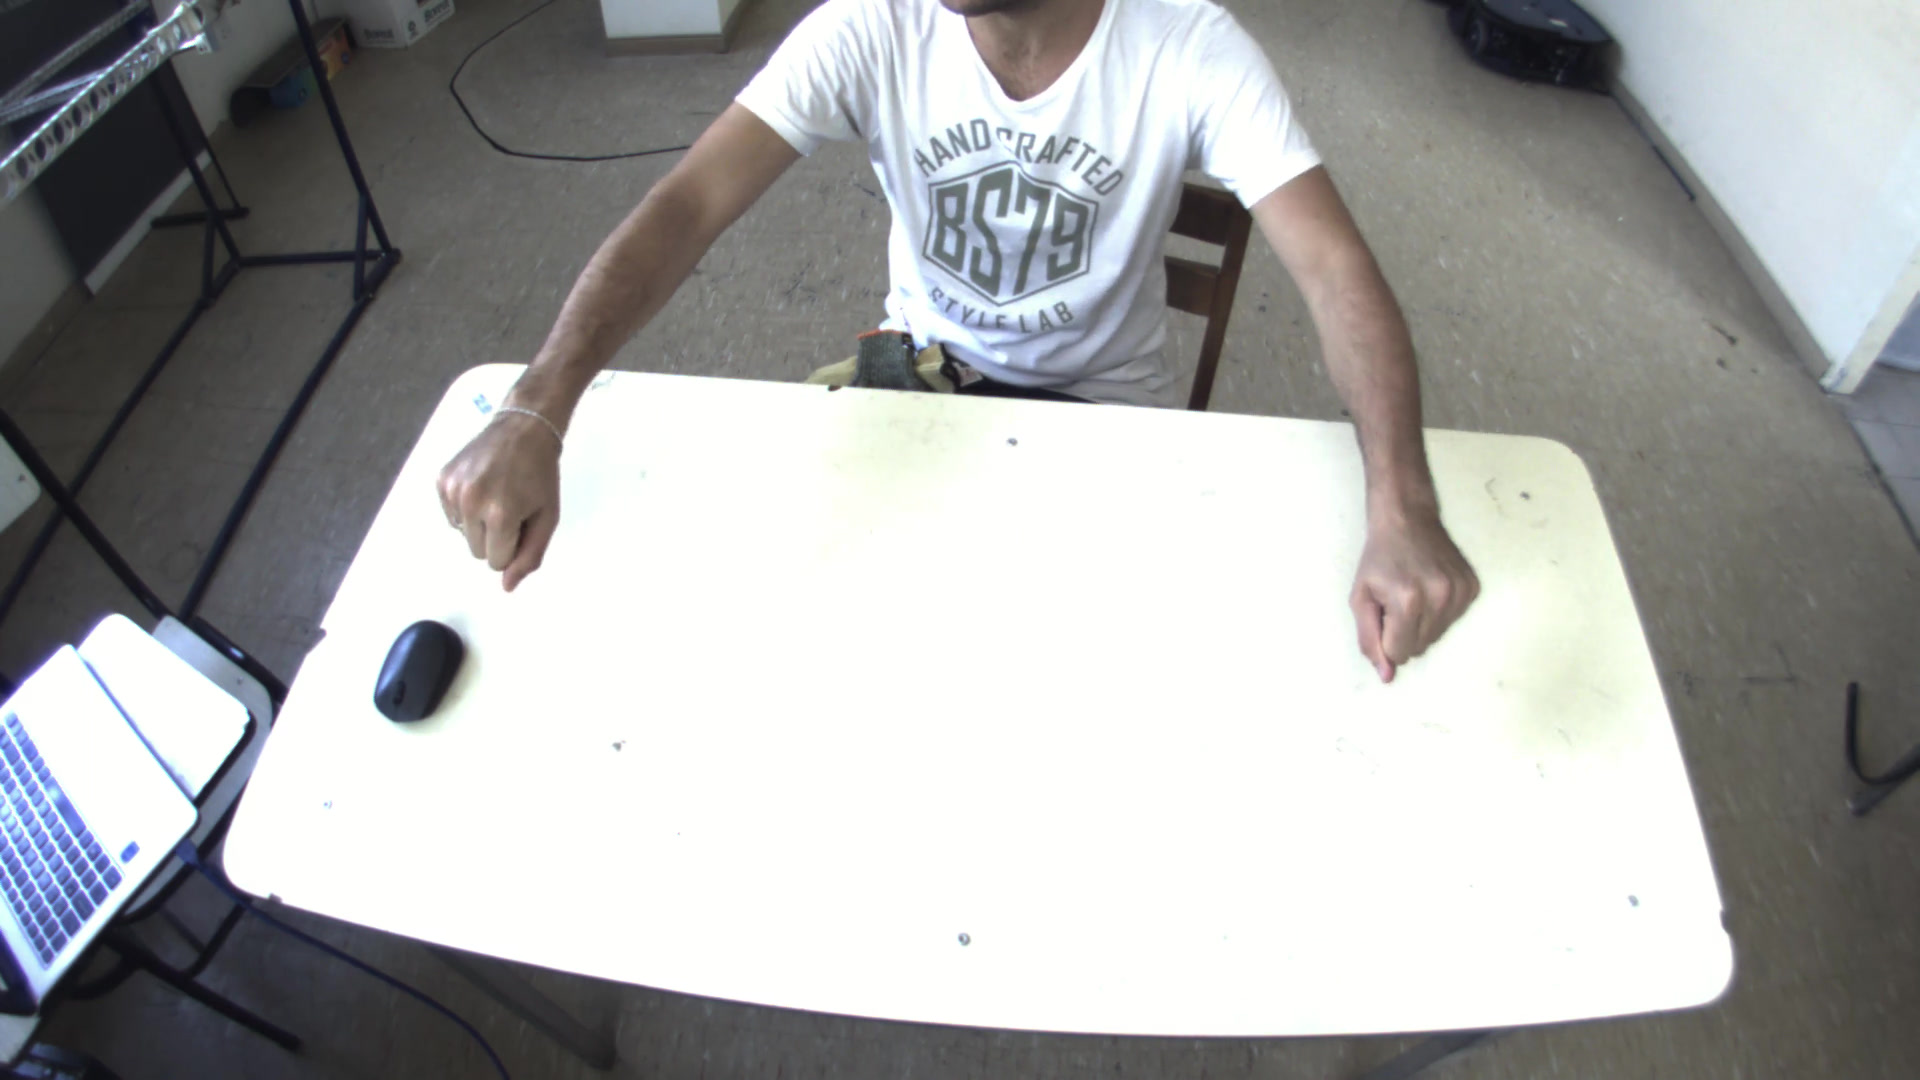hand: (429, 396, 572, 593), (1349, 492, 1486, 675)
